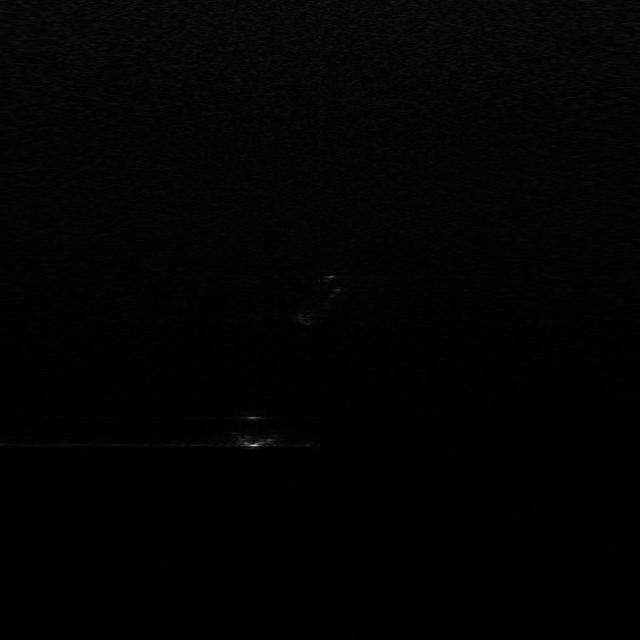ball: (232, 414, 283, 450)
tyre: (294, 274, 342, 326)
